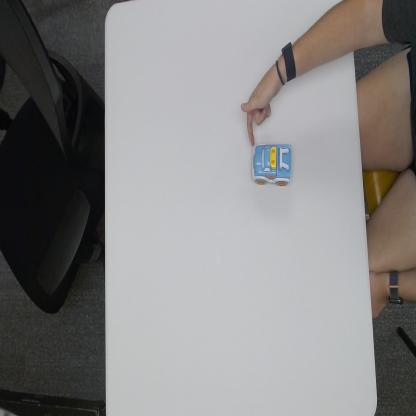Arm: (296, 0, 356, 72)
Car: (251, 140, 293, 188)
Hand: (240, 65, 290, 145)
